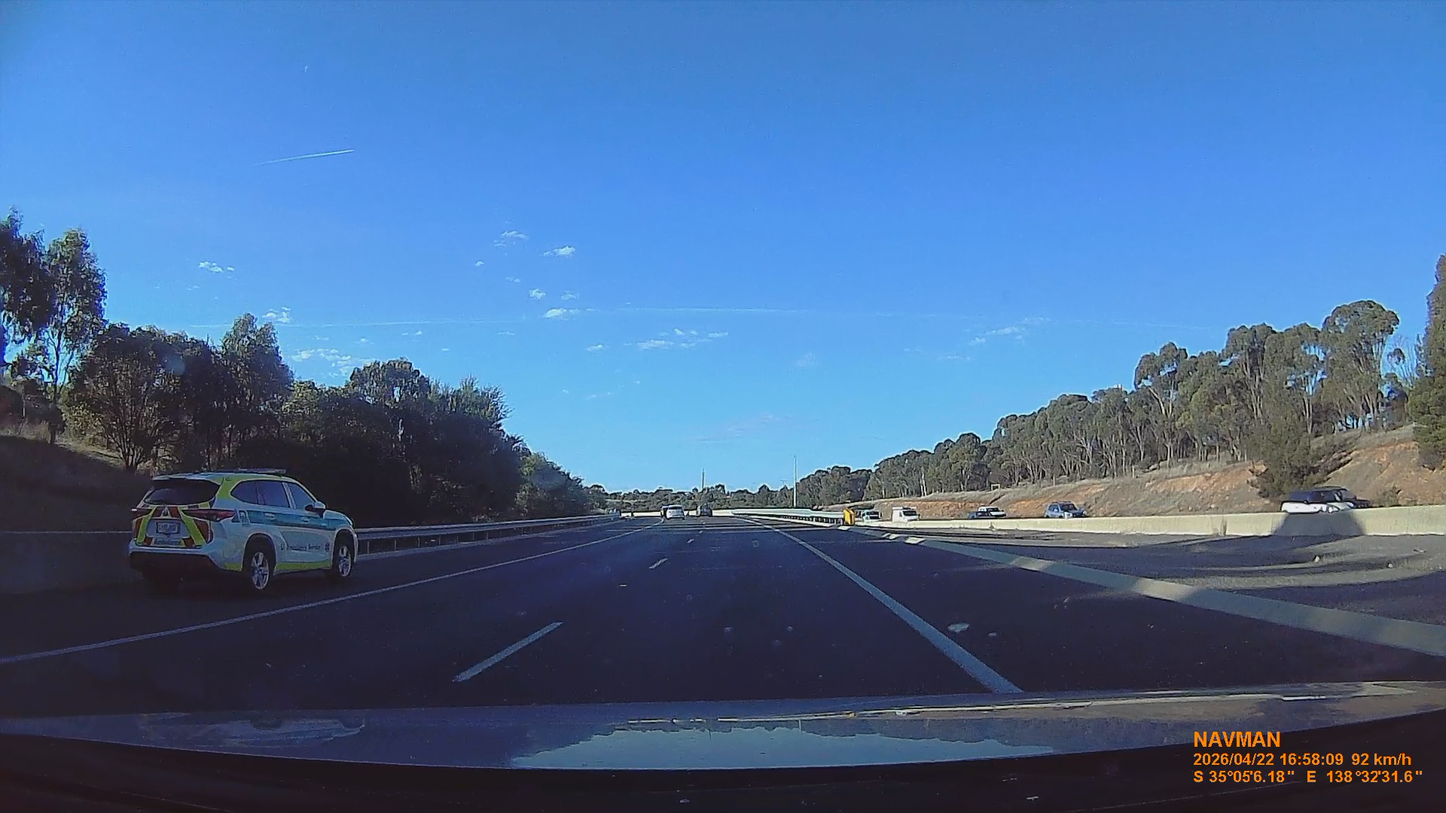road barriers: (865, 504, 1445, 536), (356, 515, 608, 557), (356, 515, 608, 556), (444, 515, 619, 537), (715, 510, 853, 528)
